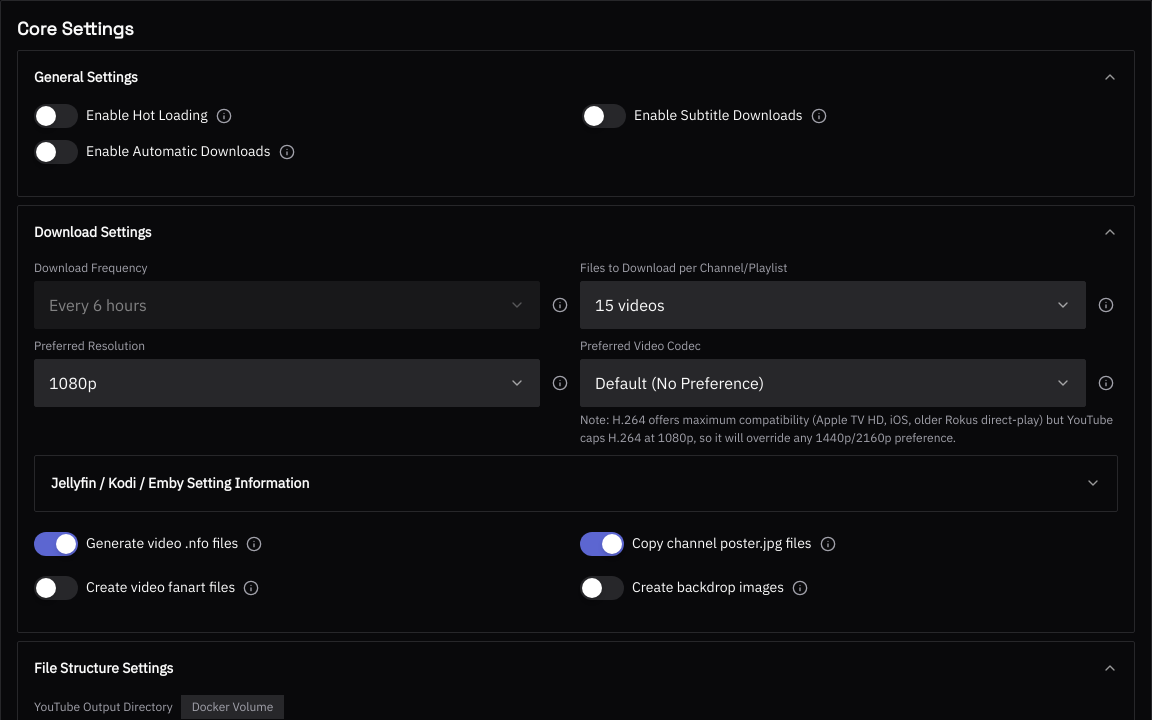
CoreSettingsSection Component › Files to Download per Channel Select › includes current value if greater than 10
The image size is (1152, 720).
Click the button "15 videos". click: {"x": 641, "y": 305}
box: [580,281,1086,329]
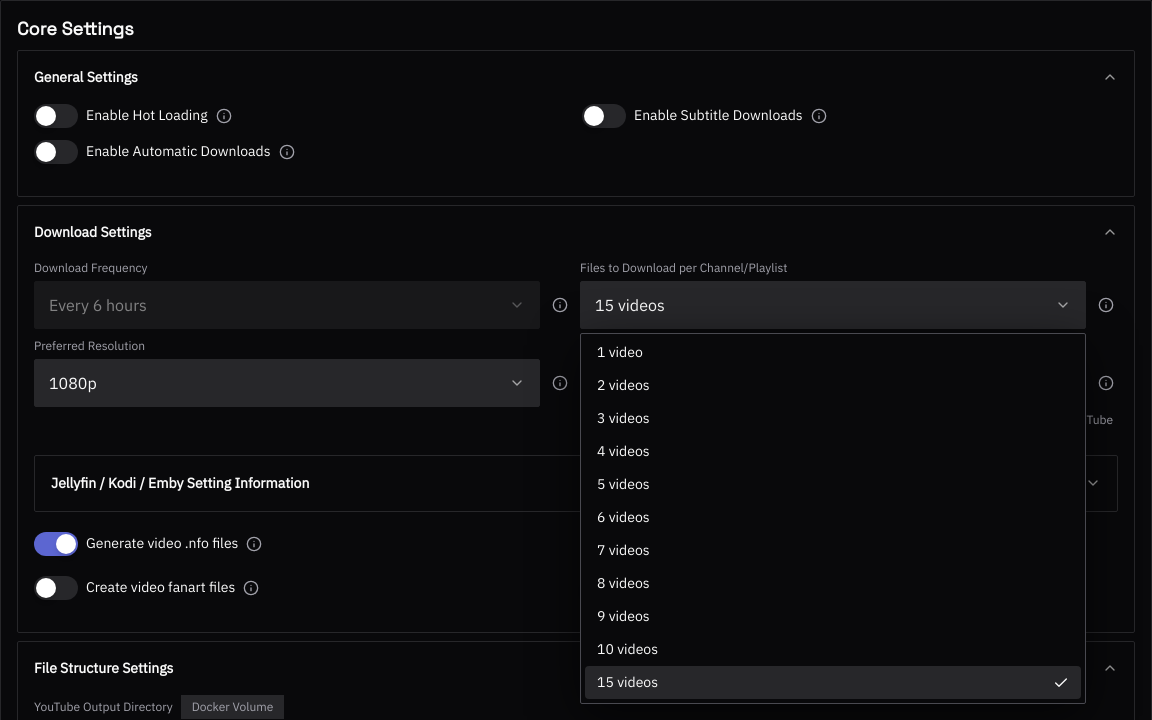
Result: the option "15 videos" is shown at [585,666,1081,699]
